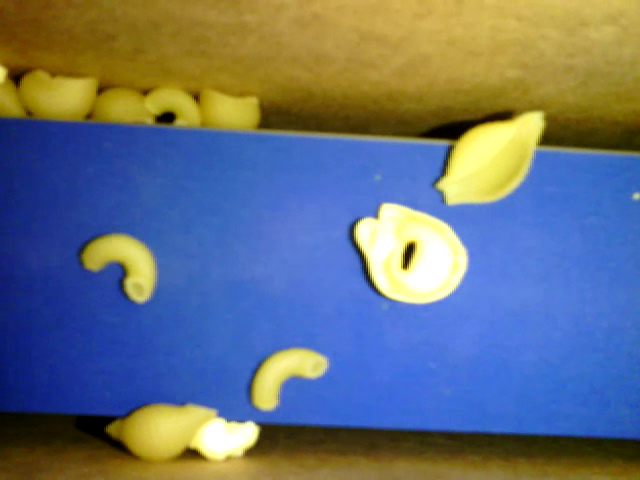elbow: (80, 234, 157, 303), (249, 348, 329, 411), (145, 84, 203, 127)
shell: (432, 109, 546, 208), (106, 403, 220, 460), (20, 70, 100, 122), (199, 85, 260, 128), (93, 87, 157, 125)
tortellini: (351, 201, 467, 303)
